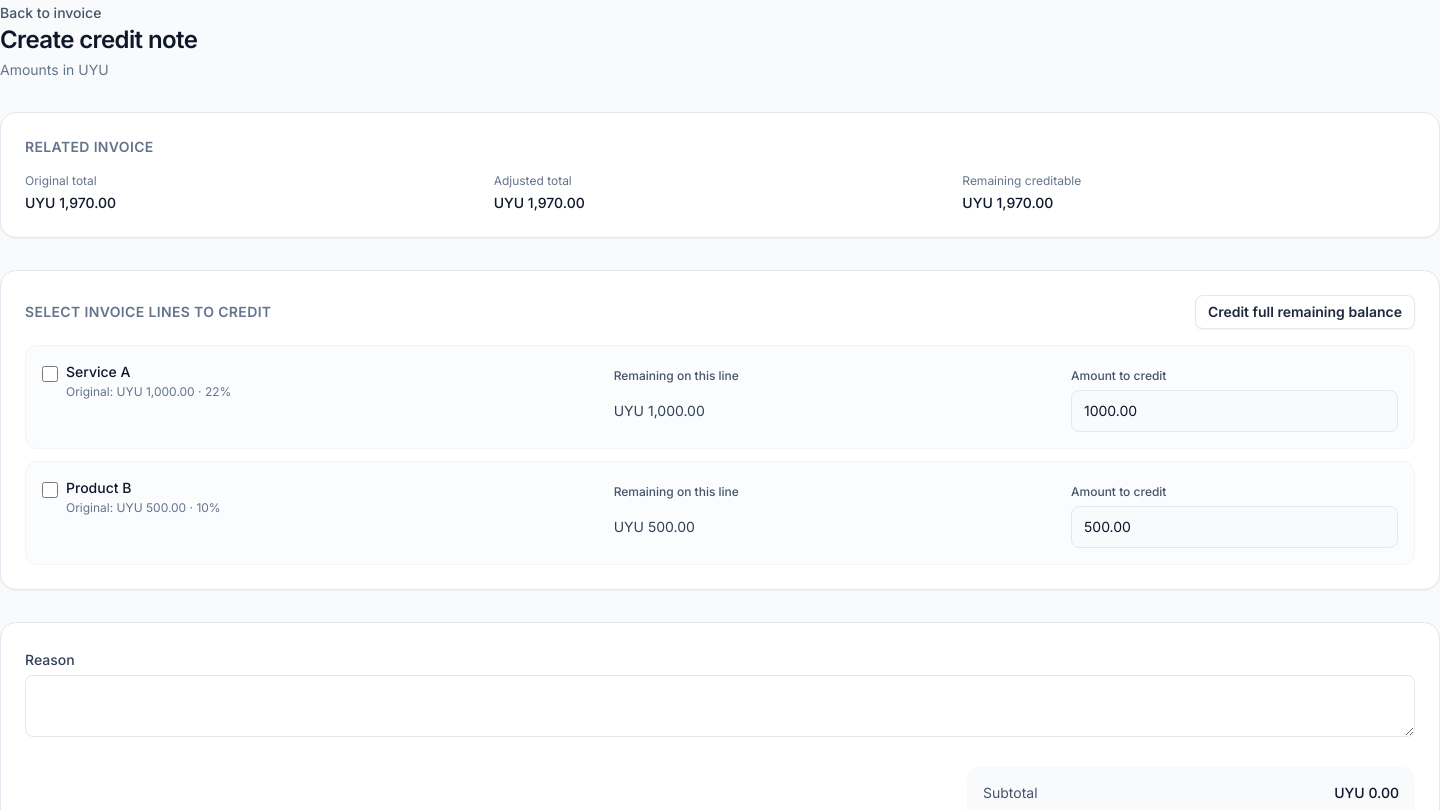
Test: credit note creation › renders the backend's over-credit error when the server rejects it
Expected: the text "Service A" is shown, [66, 363, 130, 380]
Click the checkbox named "credit service a": (50, 374) [42, 366, 58, 382]
(page scrolled)
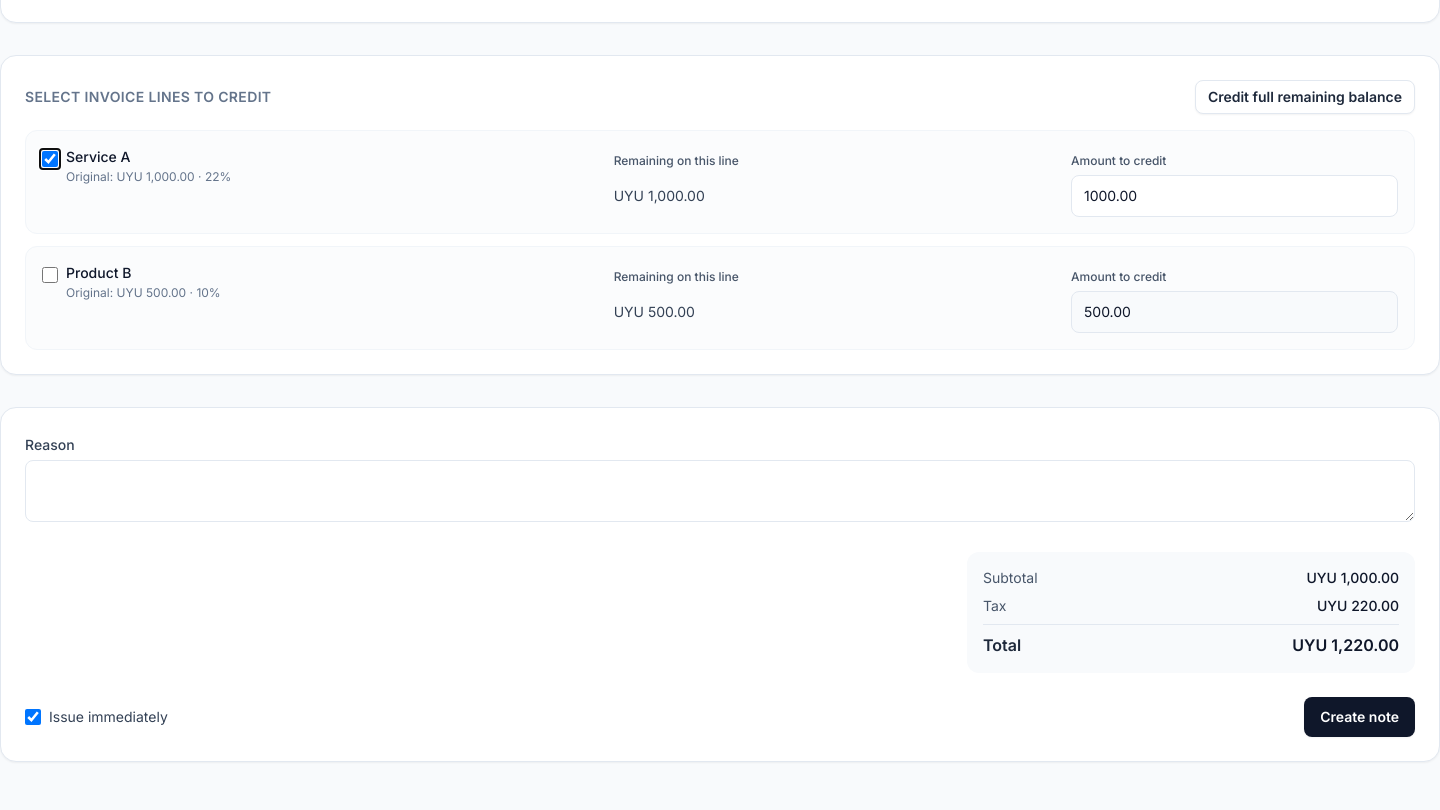
Click the button "Create note": (1360, 717) [1304, 697, 1415, 737]
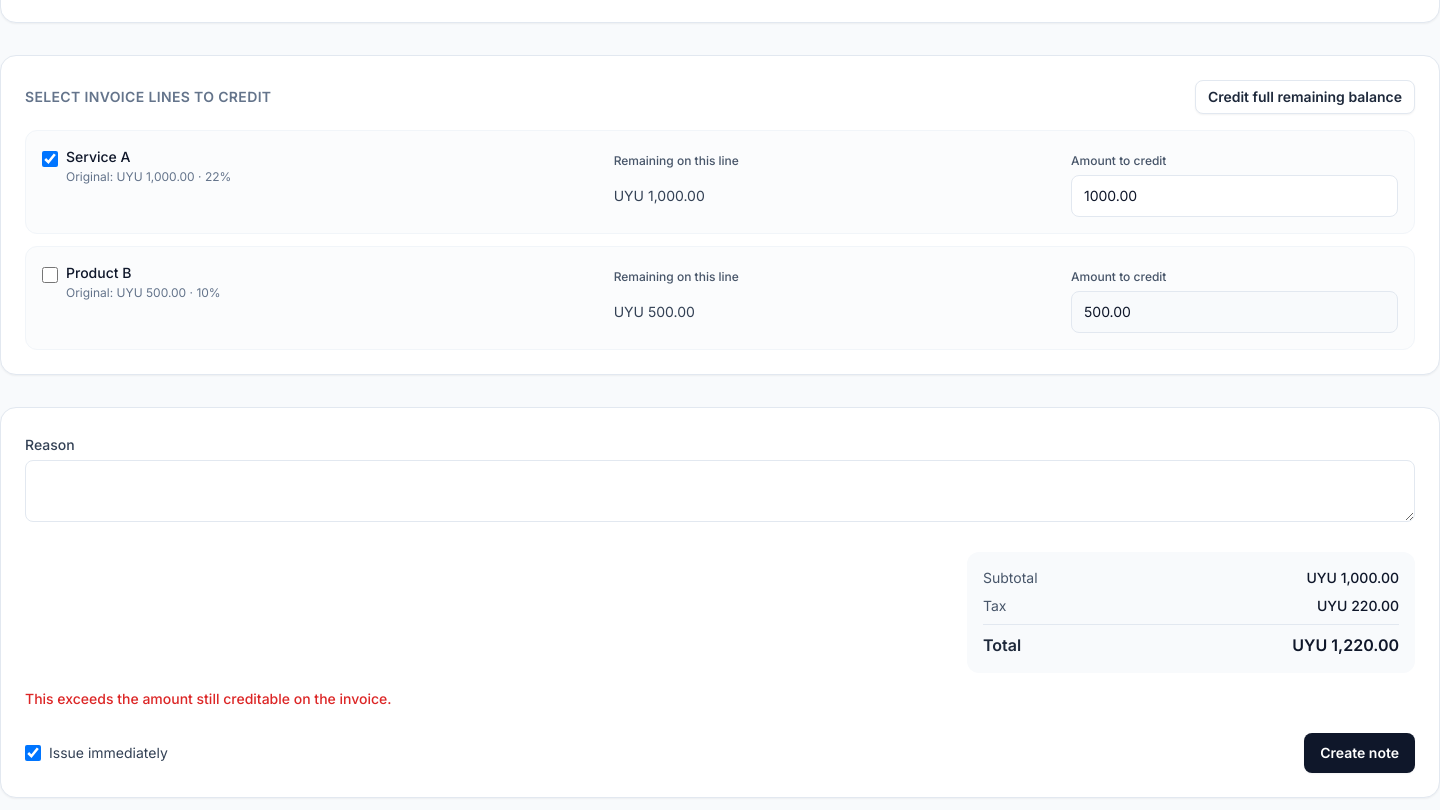
Result: the message shows "exceeds" at [25, 690, 392, 707]
